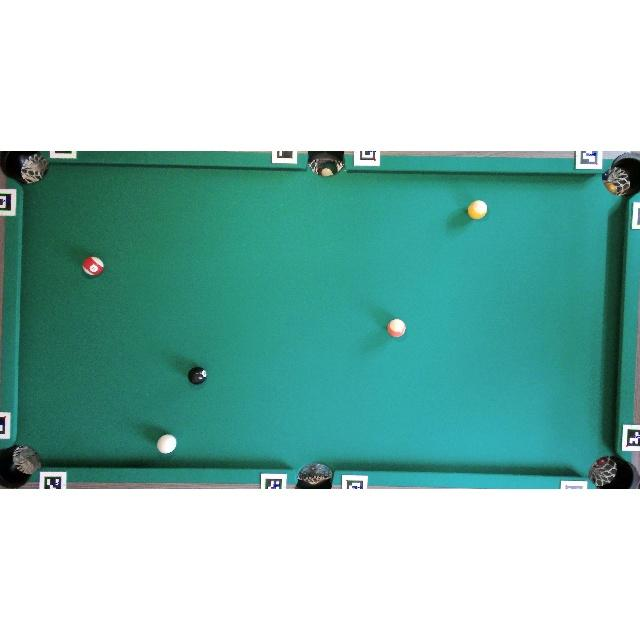cue ball: (156, 433, 177, 455)
other: (467, 199, 489, 220), (82, 256, 104, 276), (386, 318, 406, 338), (188, 366, 207, 385)
